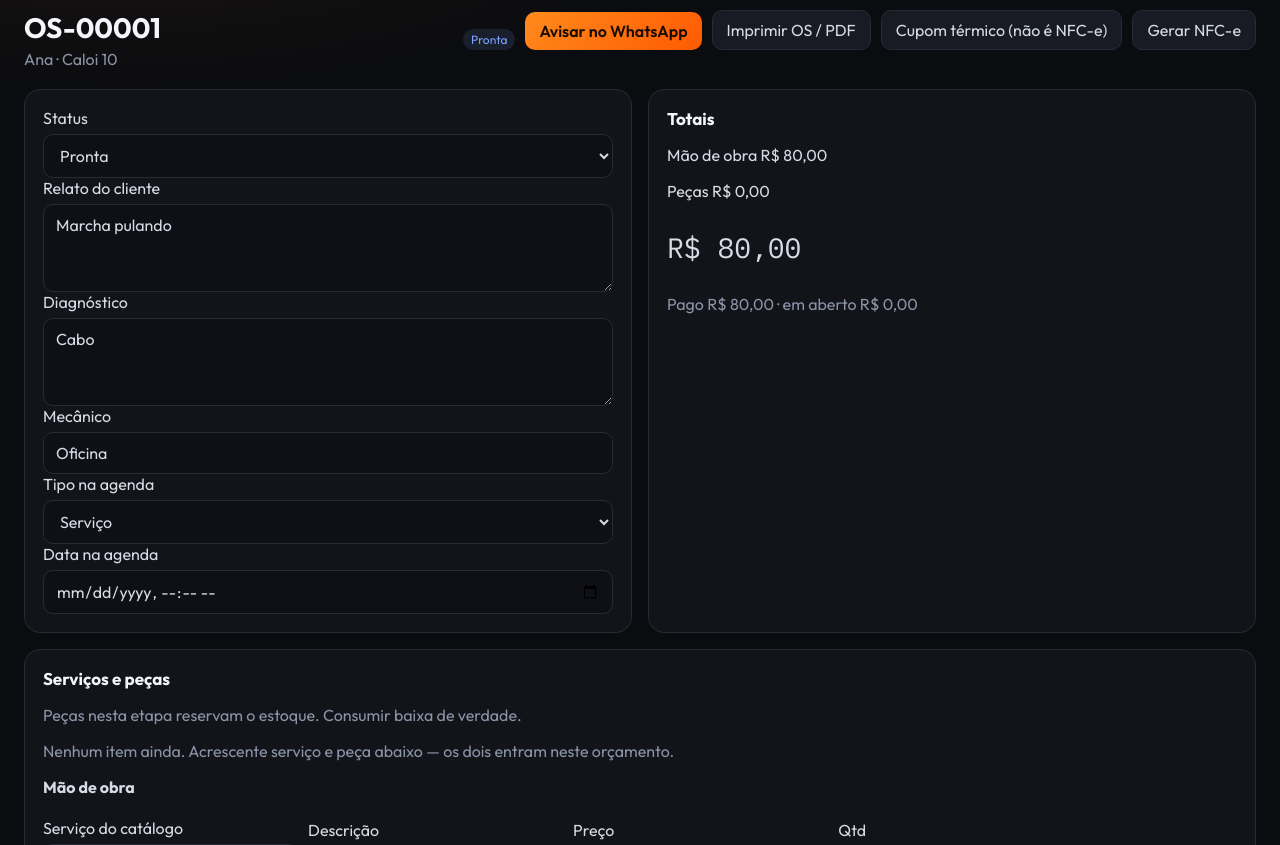
Test: NFC-e da OS › gera o rascunho da NFC-e da OS
Click the button "Gerar NFC-e". click: (1194, 30)
box: [1132,10,1256,50]
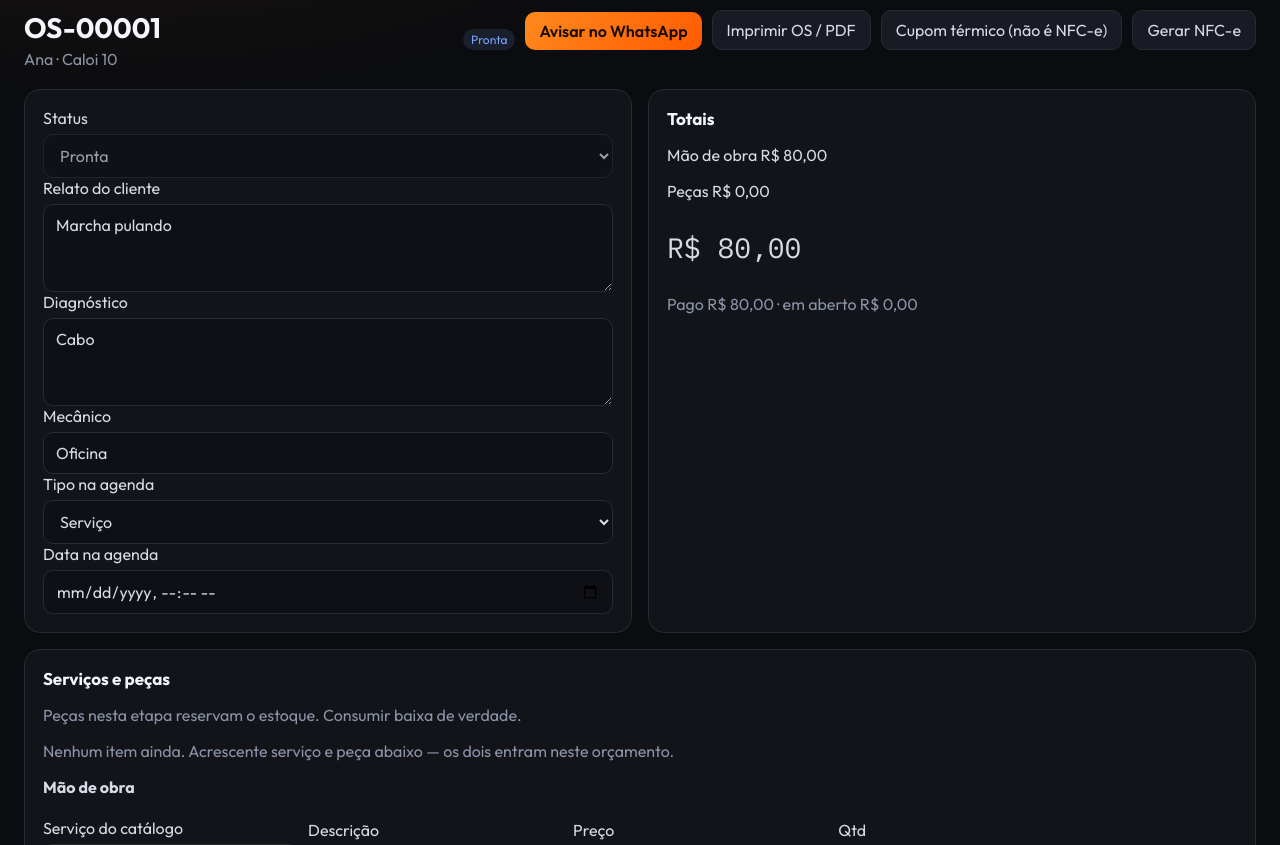
Click the button "Gerar NFC-e". click: (1194, 30)
box: [1132,10,1256,50]
(page scrolled)
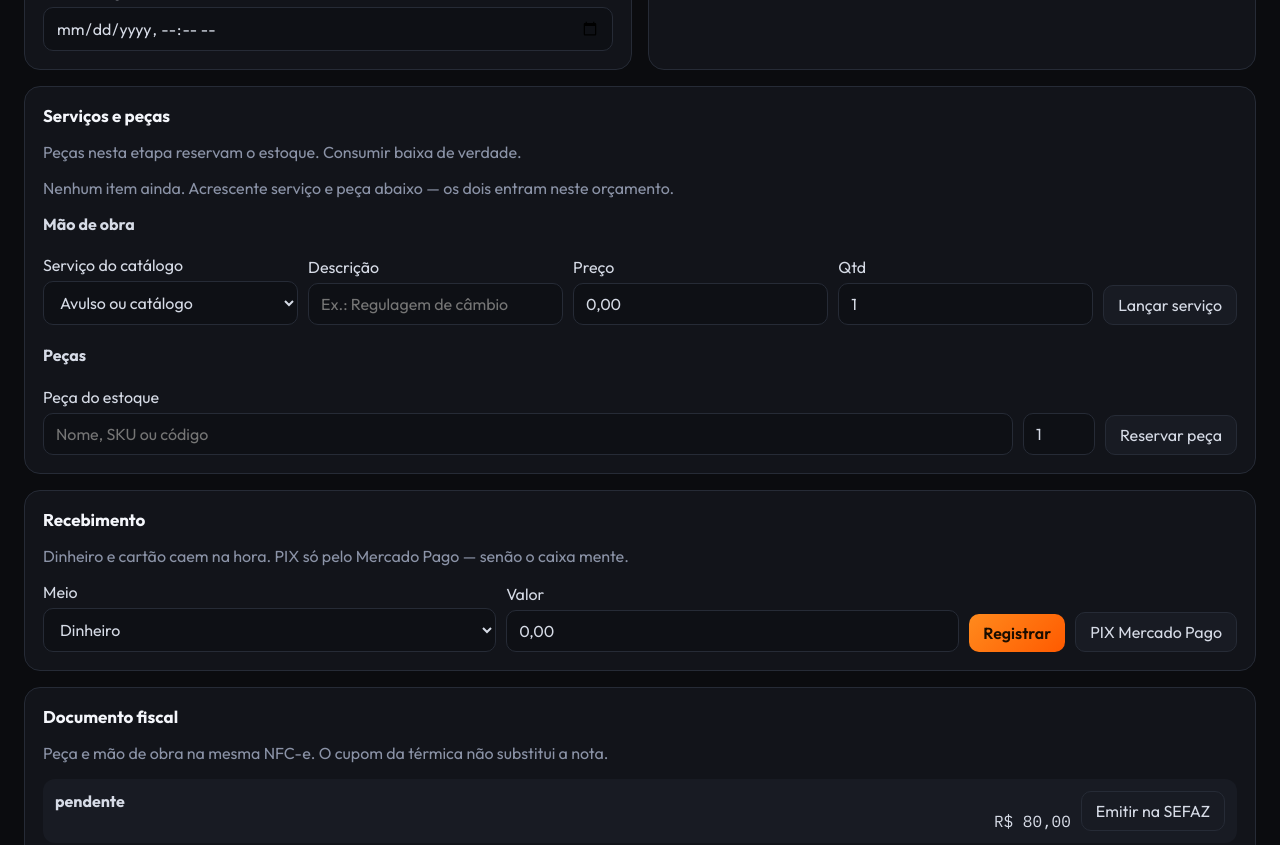
expect the text "pendente" is shown: met, box [55,790,125,810]
